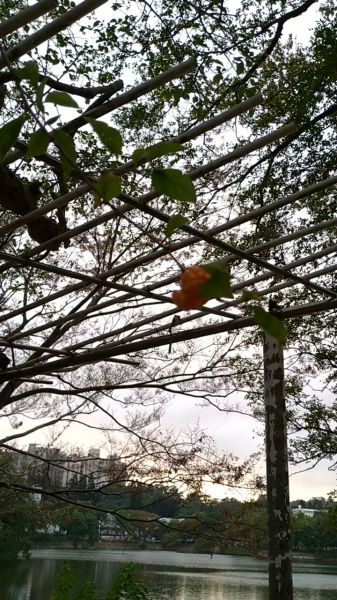eggs: (164, 260, 219, 313)
